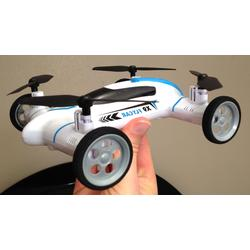drone: (7, 63, 241, 191)
